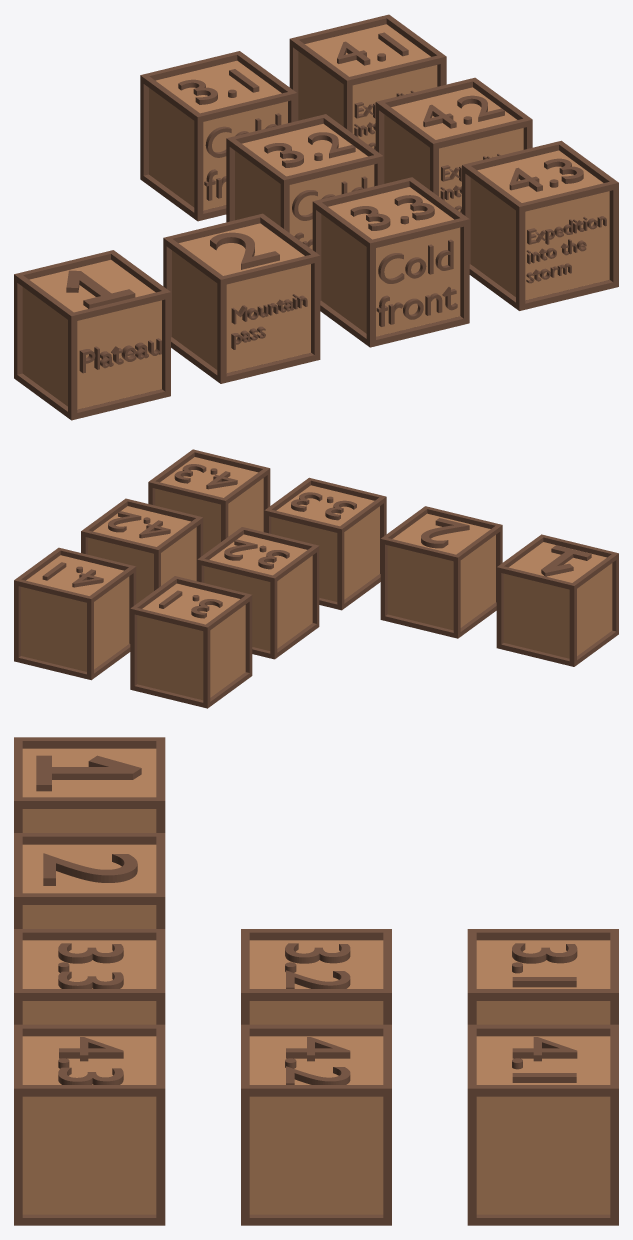
3 renders of one model, top to bottom at view 1: azimuth 30°, elevation 25°; view 2: azimuth 150°, elevation 25°; view 3: azimuth 270°, elevation 25°, orthographic. The views are drawn at different scales.
Visible parts, largest first — view 1: Cube, Cube.001, Cube.005, Cube.004, Cube.002, Cube.007, Cube.003, Cube.006, Text.011, Text.012, Text.005, Text.001 (+11 smaller); view 2: Cube.002, Cube, Cube.007, Cube.001, Cube.003, Cube.004, Cube.005, Cube.006, Text.009, Text.014, Text.004, Text.010 (+3 smaller); view 3: Cube.007, Cube.005, Cube.006, Cube.002, Cube.004, Cube.001, Cube.003, Cube, Text.014, Text.013, Text.009, Text.010 (+4 smaller).
Boxes of the visible parts, box(x1,y1,x2,y2) form: Cube: box(14, 250, 170, 420); Cube.001: box(163, 213, 320, 383); Cube.005: box(462, 140, 618, 310); Cube.004: box(312, 177, 469, 347); Cube.002: box(140, 51, 297, 221); Cube.007: box(289, 14, 446, 148); Cube.003: box(226, 114, 383, 249); Cube.006: box(375, 77, 532, 211); Text.011: box(376, 239, 457, 326); Text.012: box(526, 216, 606, 283); Text.005: box(231, 294, 307, 349); Text.001: box(79, 338, 161, 373); Cube.002: box(130, 576, 252, 708); Cube: box(496, 534, 618, 666); Cube.007: box(14, 547, 136, 680); Cube.001: box(380, 506, 502, 638); Cube.003: box(197, 527, 319, 659); Cube.004: box(264, 477, 386, 610); Cube.005: box(148, 449, 270, 554); Cube.006: box(81, 498, 203, 603); Text.009: box(224, 539, 289, 569); Text.014: box(108, 511, 170, 538); Text.004: box(421, 518, 469, 548); Text.010: box(291, 492, 356, 520); Cube.007: box(467, 1024, 618, 1225); Cube.005: box(14, 1024, 165, 1225); Cube.006: box(241, 1024, 391, 1225); Cube.002: box(467, 929, 618, 1024); Cube.004: box(14, 929, 165, 1024); Cube.001: box(14, 833, 165, 928); Cube.003: box(241, 929, 391, 1024); Cube: box(14, 737, 165, 832); Text.014: box(285, 1037, 350, 1084); Text.013: box(58, 1037, 123, 1084); Text.009: box(285, 943, 350, 988); Text.010: box(58, 943, 123, 988).
Size of the model in its own units: 1100 by 200 by 800.
